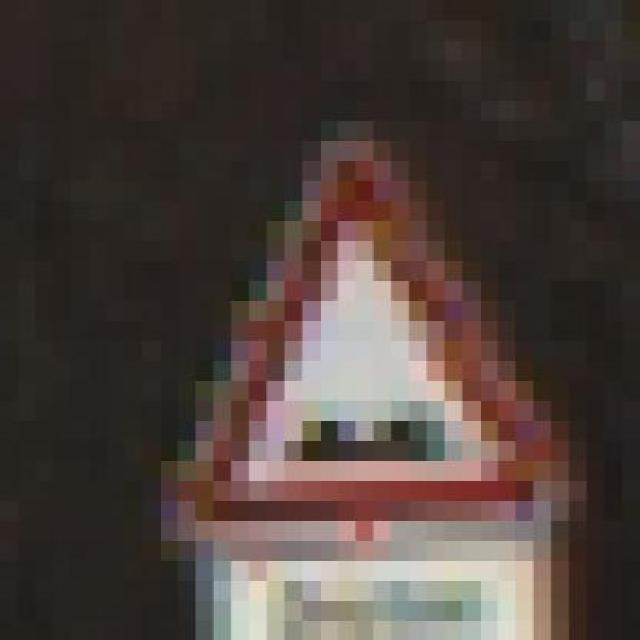Uneven Road: (159, 100, 587, 560)
